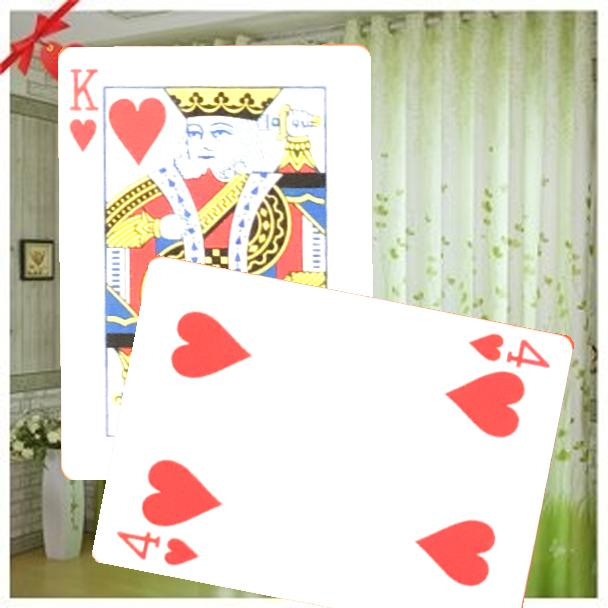h04: (465, 329, 554, 371), (113, 527, 203, 568)
h13: (65, 65, 101, 155)
